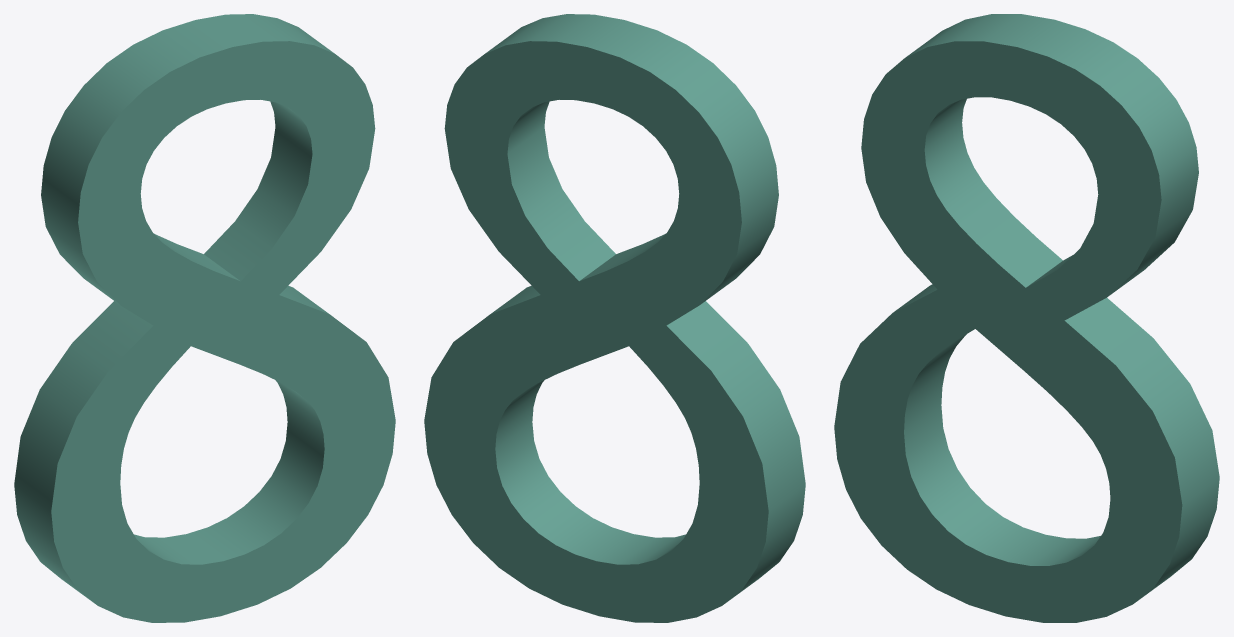
File: sekiz.fbx
The picture shows the model from 3 angles, left to right: view 1: azimuth 30°, elevation 25°; view 2: azimuth 150°, elevation 25°; view 3: azimuth 330°, elevation 25°; orthographic projection.
Parts seen in each view (by area): view 1: typeMesh1; view 2: typeMesh1; view 3: typeMesh1.
Part boxes in pixels (x1,y1,x2,y2): typeMesh1: (14,14,395,622); typeMesh1: (424,14,805,622); typeMesh1: (834,14,1219,622).
Bounding box in the file's own units: 6.6 × 10.37 × 1.23.
